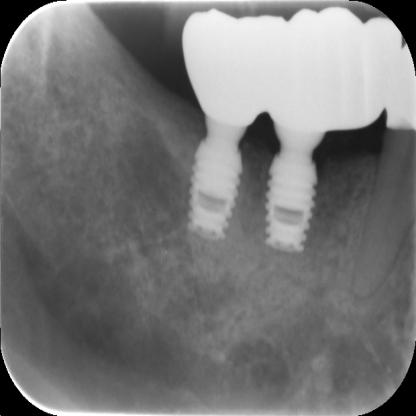Bicon: (259, 152, 317, 258), (186, 145, 242, 242)
